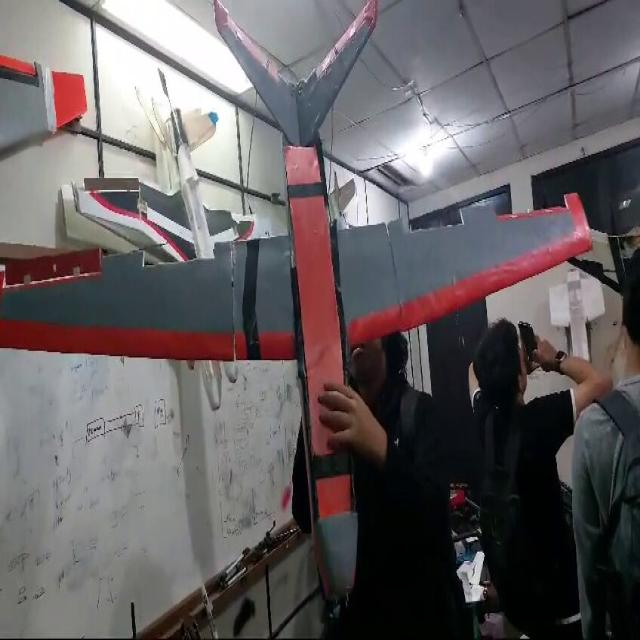plane: (1, 0, 596, 612)
